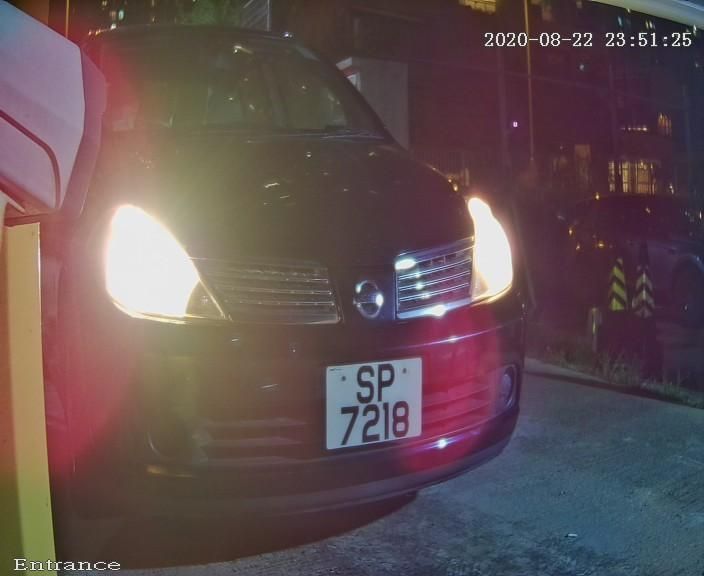License Plate: (312, 348, 431, 458)
